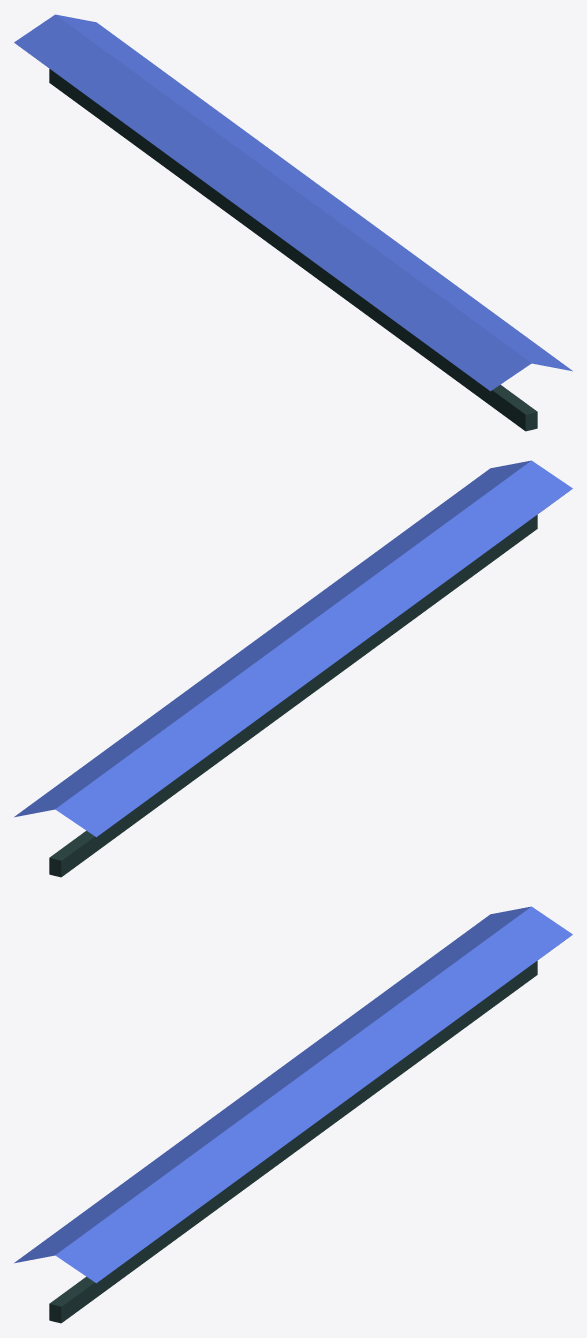
Rendered from SM_Straight_10m.fbx.
The picture shows the model from 3 angles, top to bottom: view 1: azimuth 30°, elevation 25°; view 2: azimuth 150°, elevation 25°; view 3: azimuth 330°, elevation 25°; orthographic projection.
Parts seen in each view (by area): view 1: SM_Straight_10m_LOD0; view 2: SM_Straight_10m_LOD0; view 3: SM_Straight_10m_LOD0.
Boxes of the visible parts, x1,y1,x2,y2 form: SM_Straight_10m_LOD0: (14, 14, 572, 431); SM_Straight_10m_LOD0: (14, 460, 572, 877); SM_Straight_10m_LOD0: (14, 906, 572, 1323).
Bounding box in the file's own units: 100 × 77.69 × 1000.
